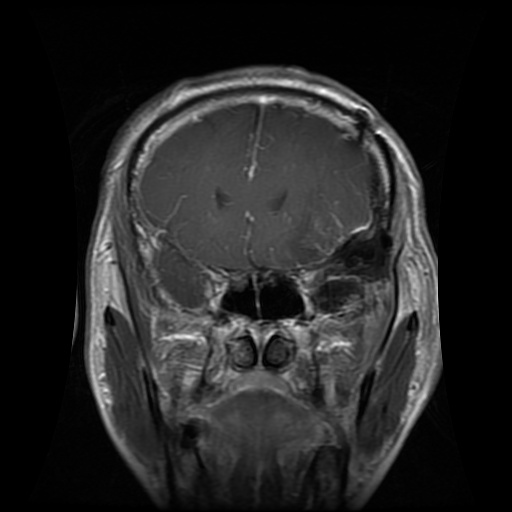glioma: (310, 152, 393, 314)
